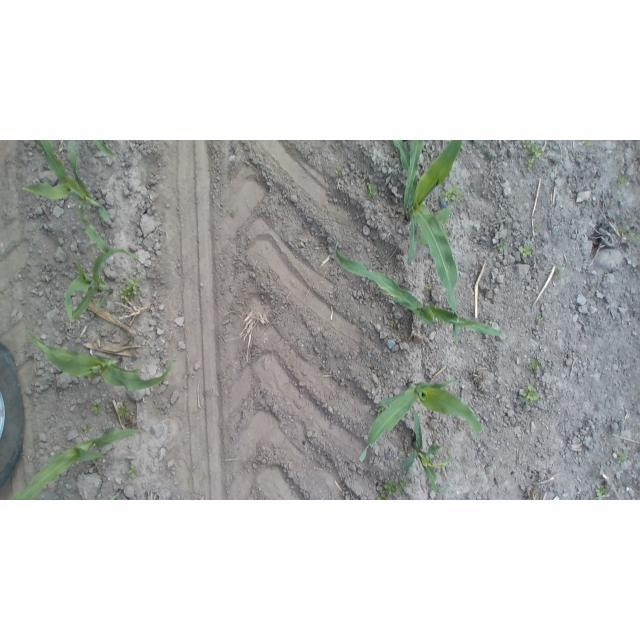Maize: (330, 236, 506, 339), (390, 140, 467, 310), (356, 369, 488, 466), (18, 141, 117, 258), (27, 322, 179, 395), (8, 424, 153, 500), (56, 249, 144, 321), (401, 408, 452, 497), (91, 140, 122, 160)
Weeds: (520, 141, 549, 172), (120, 275, 147, 302), (377, 477, 408, 500), (516, 384, 542, 409), (438, 206, 457, 234), (617, 225, 639, 245), (441, 186, 464, 204), (527, 356, 546, 375), (518, 243, 535, 261), (616, 172, 633, 189), (593, 484, 610, 500), (118, 406, 134, 420), (494, 240, 510, 253), (335, 164, 349, 178), (534, 315, 547, 330), (126, 464, 138, 480), (92, 400, 105, 414), (226, 205, 238, 219), (551, 266, 565, 277), (616, 452, 628, 464), (418, 234, 429, 247), (366, 183, 377, 196), (531, 220, 543, 231), (389, 320, 399, 332), (81, 424, 95, 432), (424, 283, 434, 292), (583, 140, 595, 146)
